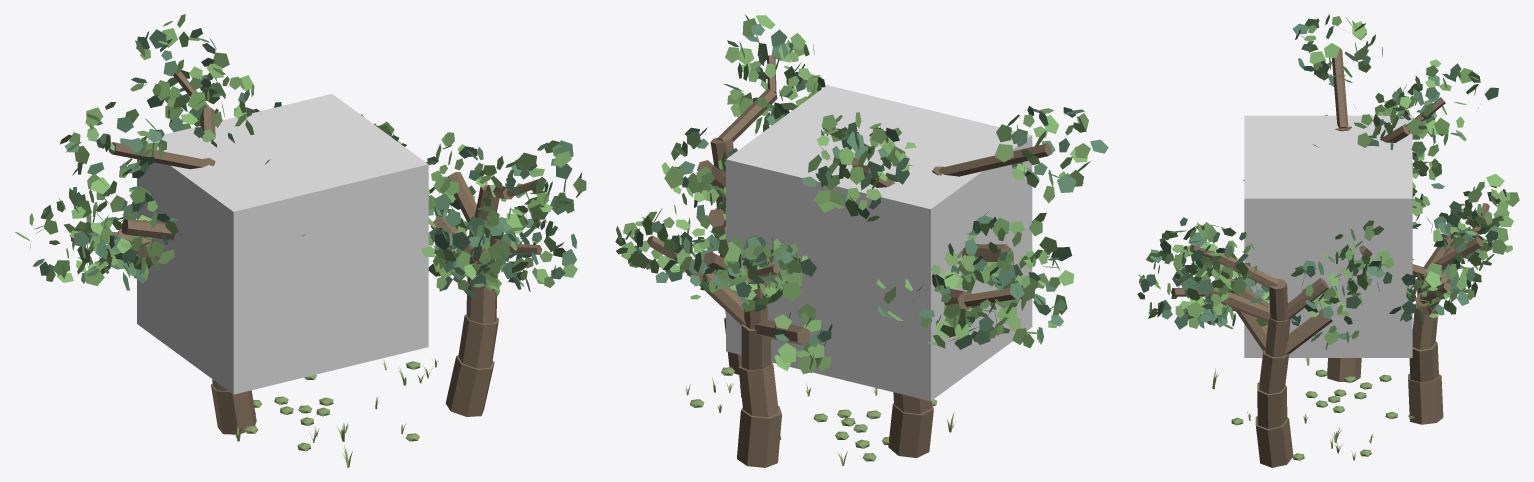
The model's file is tree_group.glb.
3 renders of one model, left to right at view 1: azimuth 30°, elevation 25°; view 2: azimuth 150°, elevation 25°; view 3: azimuth 270°, elevation 25°, orthographic. The views are drawn at different scales.
Visible parts, largest first — view 1: COL_tree_group, Nt_TreeGroup; view 2: Nt_TreeGroup, COL_tree_group; view 3: Nt_TreeGroup, COL_tree_group.
Part boxes in pixels (x1,y1,x2,y2): COL_tree_group: (137,94,428,394); Nt_TreeGroup: (15,14,586,467); Nt_TreeGroup: (615,14,1108,467); COL_tree_group: (726,85,1032,401); Nt_TreeGroup: (1137,14,1519,467); COL_tree_group: (1244,115,1412,357).
Size of the model in its own units: 5.95 by 4.69 by 5.1.
